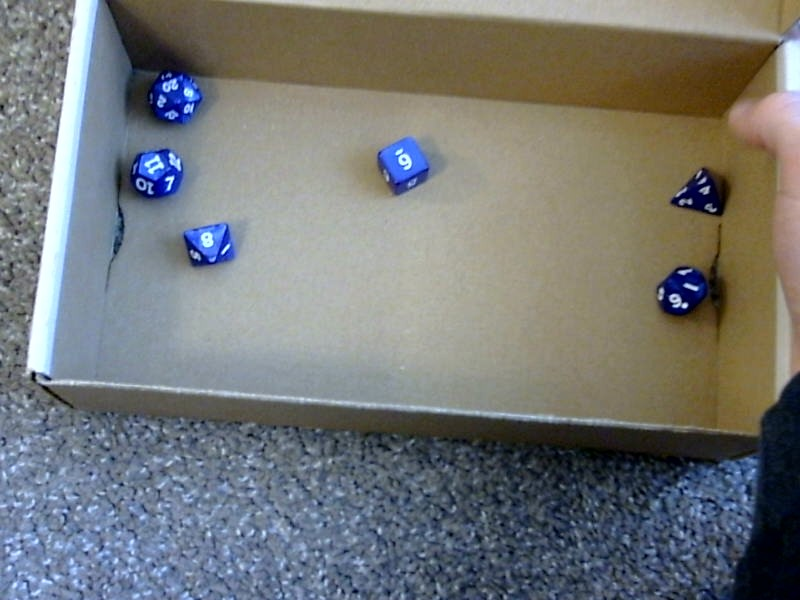d10 1: (649, 252, 709, 318)
d12 11: (126, 147, 183, 199)
d20 20: (141, 64, 204, 128)
d4 4: (659, 158, 726, 218)
d6 6: (370, 131, 430, 198)
d8 8: (177, 218, 236, 270)
